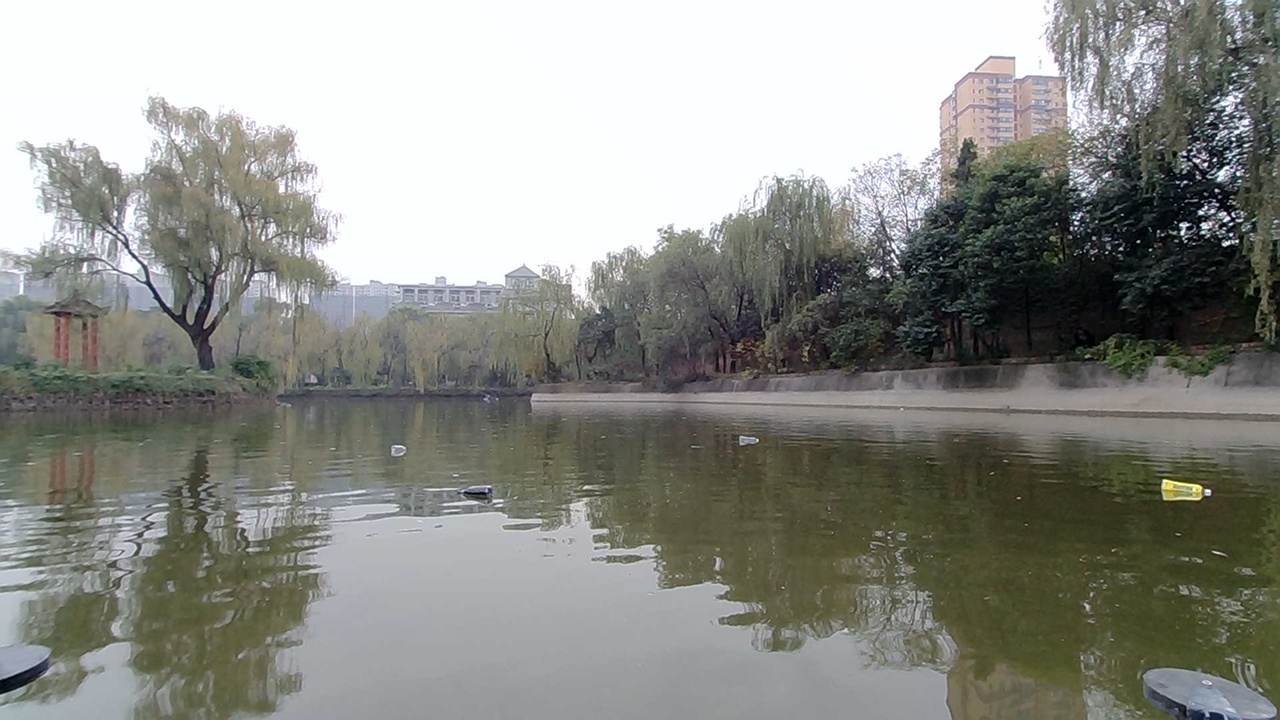bottle: (367, 426, 422, 470), (455, 477, 508, 513), (1158, 473, 1202, 507), (728, 420, 773, 452)
